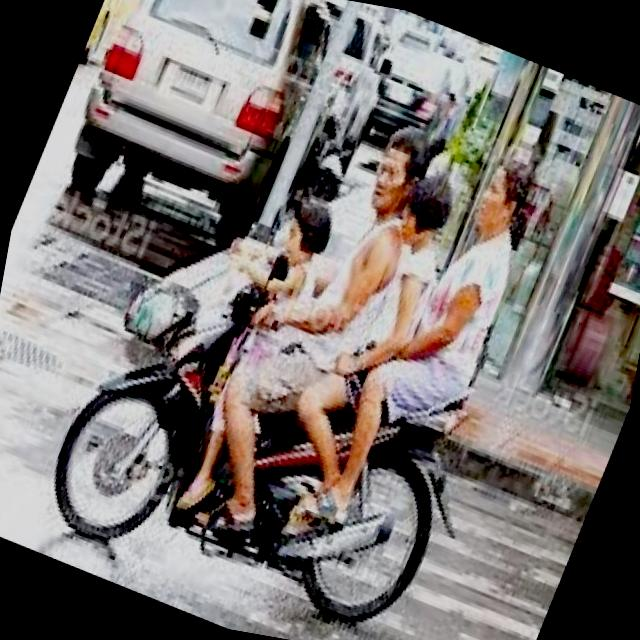motorcycle: (35, 238, 492, 631)
person: (388, 138, 544, 476), (310, 108, 452, 398), (347, 162, 471, 431), (233, 184, 351, 409)
rider_region: (31, 76, 566, 640)
